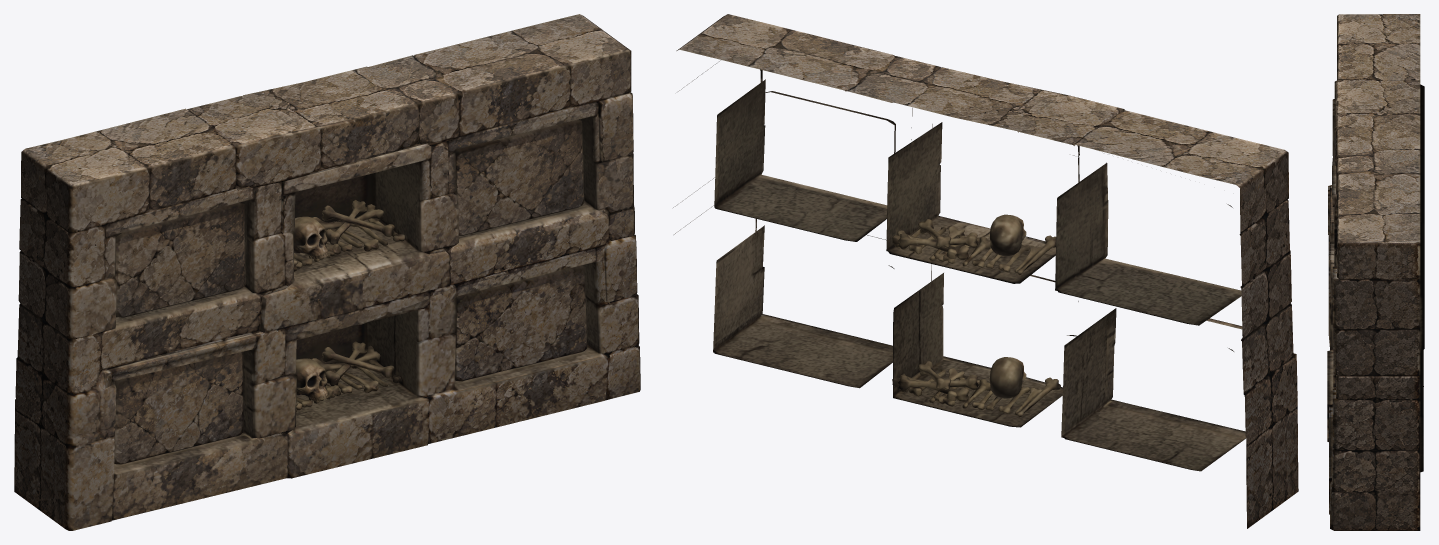
File: dungeon_crypt_wall.glb
3 renders of one model, left to right at view 1: azimuth 30°, elevation 25°; view 2: azimuth 150°, elevation 25°; view 3: azimuth 270°, elevation 25°, orthographic. The views are drawn at different scales.
Parts seen in each view (by area): view 1: fa7ff66c_02f6_48ce_b2eb_ebdff84c1018; view 2: fa7ff66c_02f6_48ce_b2eb_ebdff84c1018; view 3: fa7ff66c_02f6_48ce_b2eb_ebdff84c1018.
Part boxes in pixels (left/top/right/bottom): fa7ff66c_02f6_48ce_b2eb_ebdff84c1018: left=14, top=14, right=640, bottom=530; fa7ff66c_02f6_48ce_b2eb_ebdff84c1018: left=673, top=14, right=1298, bottom=528; fa7ff66c_02f6_48ce_b2eb_ebdff84c1018: left=1327, top=14, right=1424, bottom=530.
Bounding box in the file's own units: 0.9995 × 0.5708 × 0.1743.
Materials: 1 (1 with a texture image).
